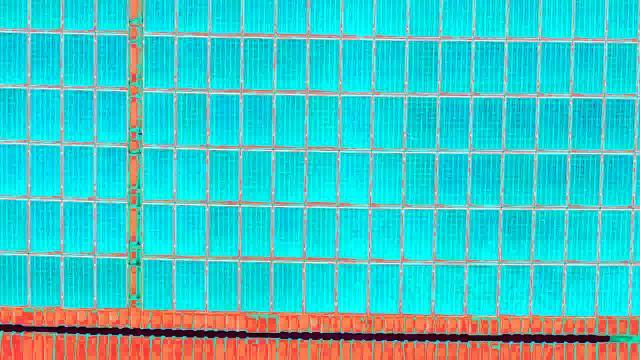dirty: (465, 93, 502, 151), (435, 96, 472, 154), (403, 95, 440, 153), (367, 93, 404, 151), (337, 95, 374, 153), (305, 91, 342, 149), (272, 91, 309, 149), (238, 91, 275, 149), (209, 89, 246, 147), (171, 90, 208, 148), (141, 90, 178, 148), (95, 90, 132, 148), (58, 87, 95, 145), (603, 43, 640, 100), (601, 98, 638, 155), (568, 96, 605, 153), (532, 95, 569, 152), (504, 94, 541, 151), (27, 31, 63, 88), (59, 31, 95, 88), (95, 33, 131, 90), (140, 34, 176, 91), (174, 33, 210, 90), (204, 34, 240, 91), (239, 35, 275, 92), (273, 34, 309, 91), (305, 38, 341, 95), (339, 39, 375, 96), (372, 35, 408, 92), (405, 41, 441, 98), (436, 39, 472, 96), (472, 40, 508, 97), (502, 40, 538, 97), (537, 39, 573, 96), (567, 39, 603, 96), (22, 89, 58, 146), (29, 143, 65, 200), (61, 141, 97, 198), (95, 146, 131, 203), (140, 146, 176, 203), (176, 146, 212, 203), (203, 145, 239, 202), (235, 147, 271, 204), (271, 150, 307, 207), (304, 148, 340, 205), (335, 150, 371, 207), (370, 151, 406, 208), (402, 148, 438, 205), (433, 149, 469, 206), (466, 150, 502, 207), (499, 152, 535, 209), (531, 150, 567, 207), (568, 153, 604, 210), (603, 151, 639, 208), (596, 209, 632, 266), (564, 207, 600, 264), (531, 208, 567, 265), (500, 206, 536, 263), (463, 206, 499, 263), (430, 203, 466, 260), (398, 206, 434, 263), (370, 208, 406, 265), (336, 205, 372, 262), (302, 204, 338, 261), (266, 204, 302, 261), (237, 205, 273, 262), (200, 204, 236, 261), (175, 202, 211, 259), (135, 201, 171, 258), (93, 203, 129, 260), (57, 199, 93, 256), (24, 199, 60, 256), (26, 256, 62, 313), (65, 254, 101, 311), (93, 255, 129, 312), (138, 256, 174, 313), (172, 257, 208, 314), (203, 258, 239, 315), (238, 258, 274, 315), (271, 262, 307, 319), (299, 262, 335, 319), (336, 263, 372, 320), (367, 261, 403, 318), (400, 261, 436, 318), (433, 261, 469, 318), (466, 263, 502, 320), (496, 264, 532, 321), (531, 260, 567, 317), (558, 265, 594, 322), (594, 263, 630, 320), (1, 259, 36, 316), (1, 200, 26, 252), (1, 147, 26, 199), (1, 87, 26, 139), (1, 31, 26, 83)
